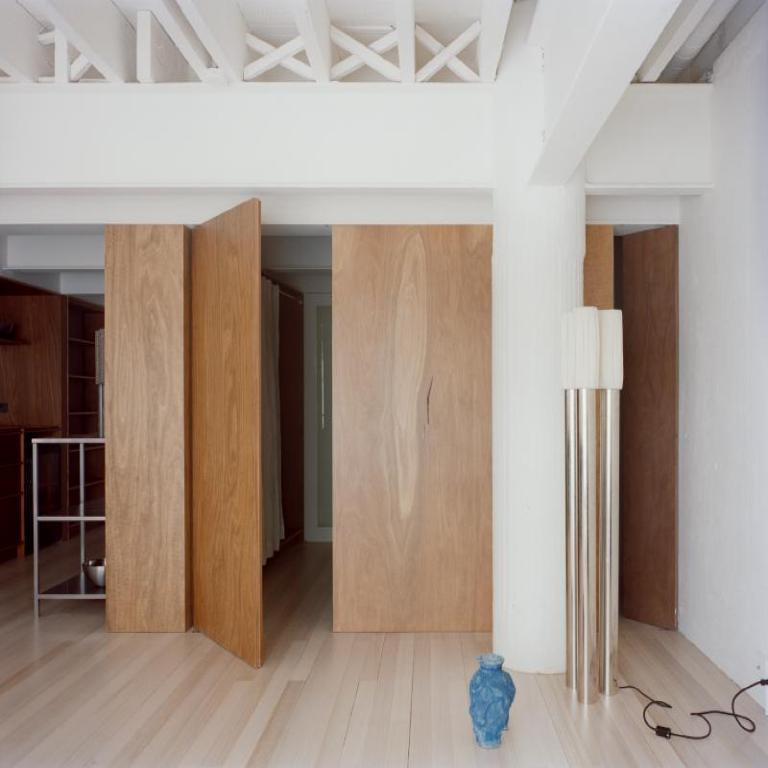white-walls: (18, 97, 505, 216)
